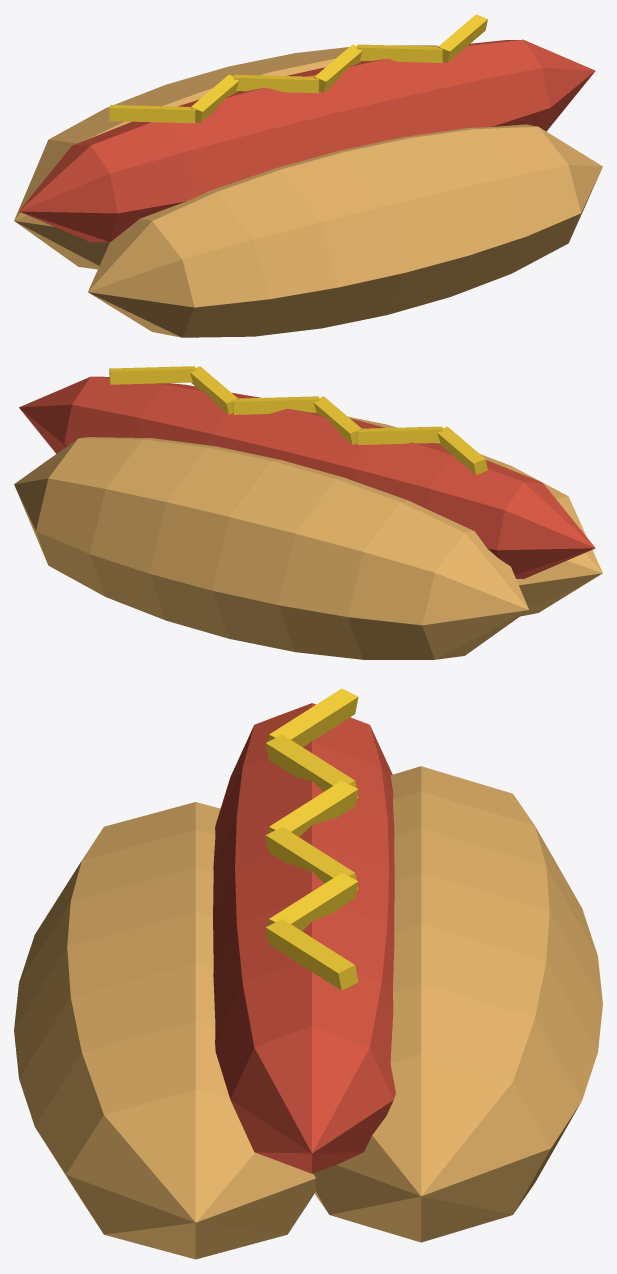
The model's file is Food_HotDog.obj.
3 views of the same model, one above another, from view 1: azimuth 30°, elevation 25°; view 2: azimuth 150°, elevation 25°; view 3: azimuth 270°, elevation 25° (orthographic). The views are drawn at different scales.
Size of the model in its own units: 2.8 by 0.9733 by 1.62.
